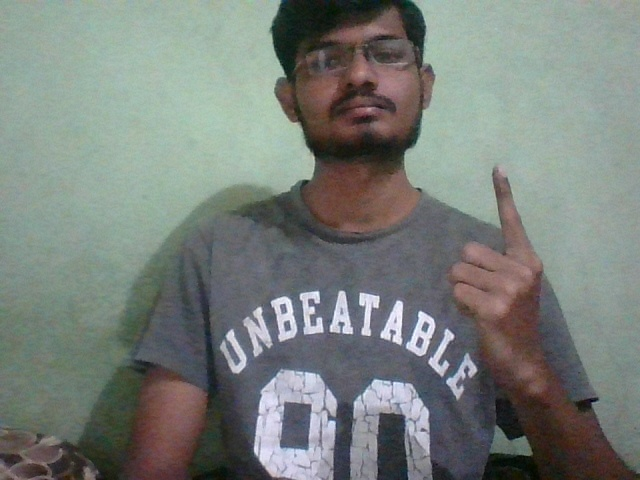where: (431, 160, 588, 374)
